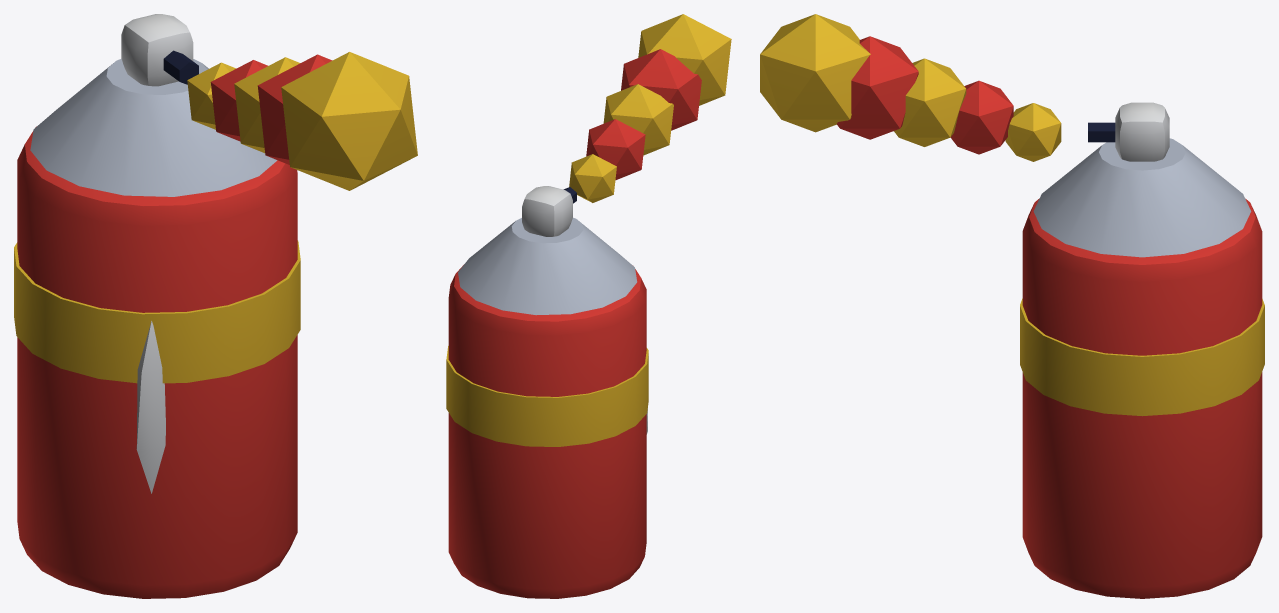
File: lo_wskin_lava.glb
The picture shows the model from 3 angles, left to right: view 1: azimuth 30°, elevation 25°; view 2: azimuth 150°, elevation 25°; view 3: azimuth 270°, elevation 25°; orthographic projection. The views are drawn at different scales.
Parts seen in each view (by area): view 1: body; view 2: body; view 3: body.
Part boxes in pixels (x1=…): body: x1=14, y1=14, x2=417, y2=598; body: x1=446, y1=14, x2=731, y2=598; body: x1=760, y1=14, x2=1264, y2=598.
Bounding box in the file's own units: 0.45 × 1.1 × 0.9271.
